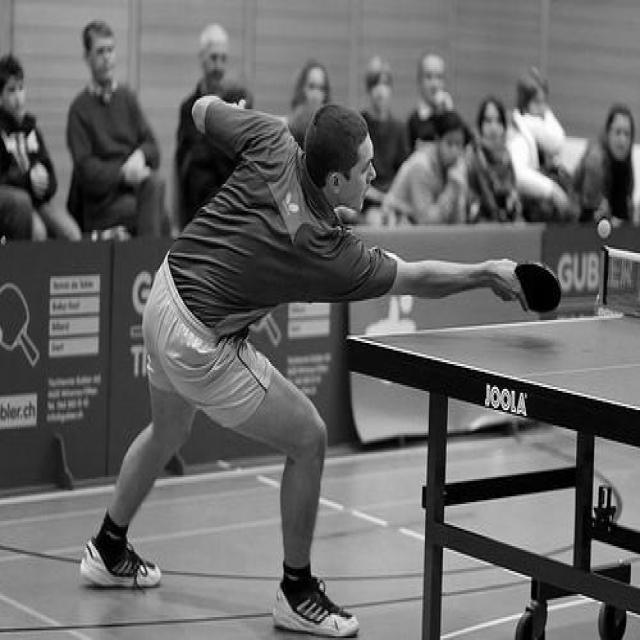ping-pong-ball: (596, 217, 612, 238)
